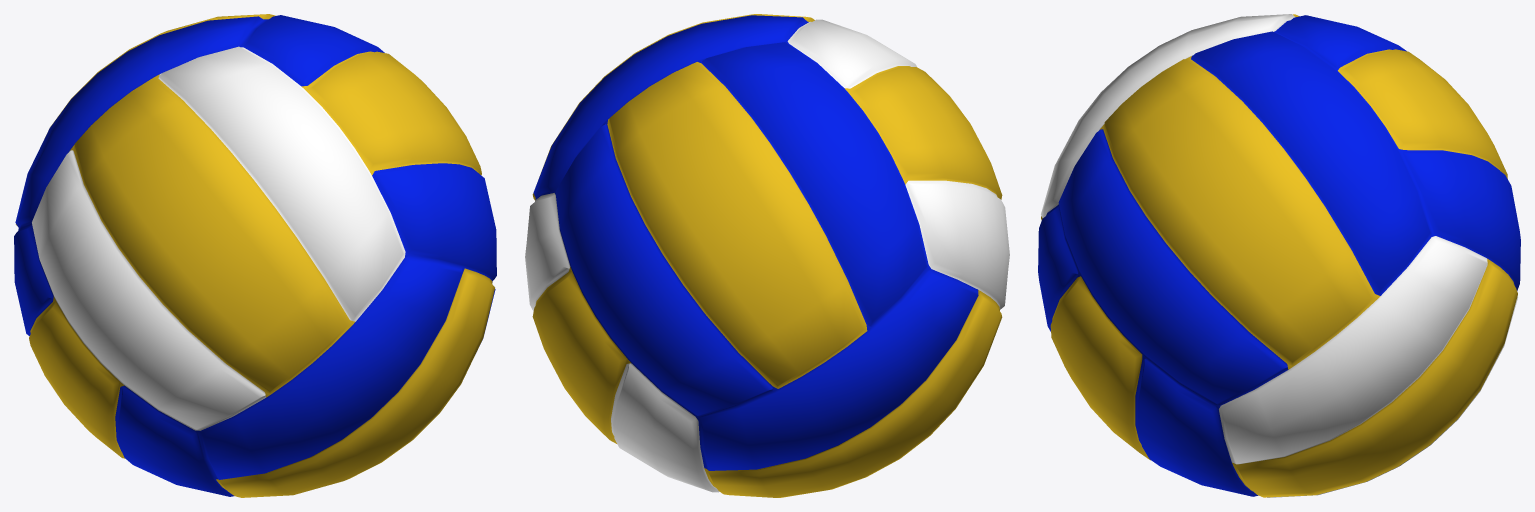
File: volleyball.glb
3 views of the same model, side by side, from view 1: azimuth 30°, elevation 25°; view 2: azimuth 150°, elevation 25°; view 3: azimuth 270°, elevation 25° (orthographic).
Parts seen in each view (by area): view 1: Cube.007; view 2: Cube.007; view 3: Cube.007.
Boxes of the visible parts, x1,y1,x2,y2 form: Cube.007: (14, 14, 496, 497); Cube.007: (525, 14, 1009, 497); Cube.007: (1038, 14, 1520, 497).
Size of the model in its own units: 1.93 by 1.93 by 1.93.
